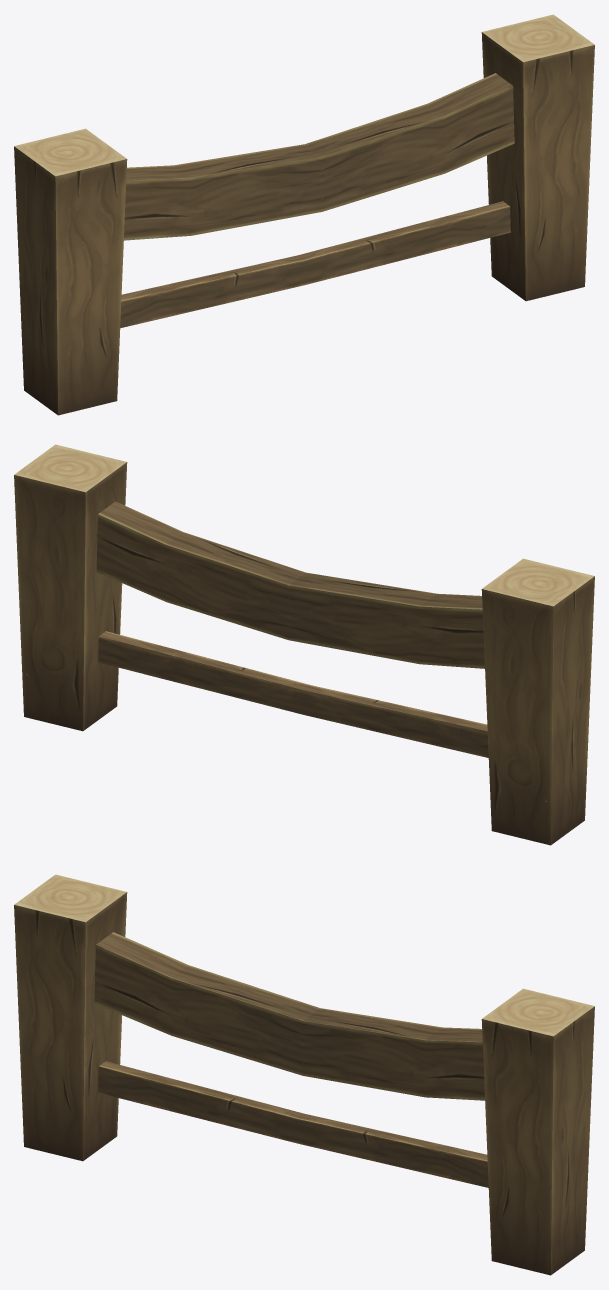
The model's file is wooden_fence_42.fbx.
3 views of the same model, one above another, from view 1: azimuth 30°, elevation 25°; view 2: azimuth 150°, elevation 25°; view 3: azimuth 330°, elevation 25° (orthographic).
Visible parts, largest first — view 1: wooden_fence_42:Mesh; view 2: wooden_fence_42:Mesh; view 3: wooden_fence_42:Mesh.
Boxes of the visible parts, box(x1,y1,x2,y2) form: wooden_fence_42:Mesh: box(14, 14, 594, 415); wooden_fence_42:Mesh: box(14, 444, 594, 845); wooden_fence_42:Mesh: box(14, 874, 594, 1275).
Bounding box in the file's own units: 6.26 × 2.7 × 0.8325.
